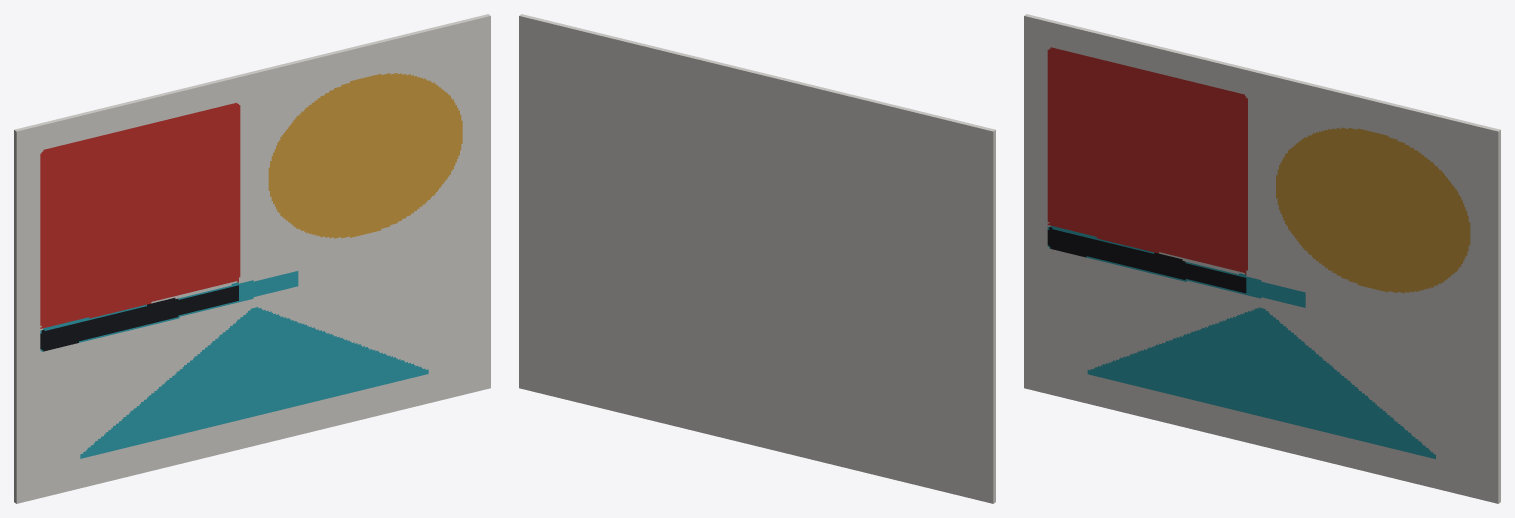
File: sample-plate.obj
3 renders of one model, left to right at view 1: azimuth 30°, elevation 25°; view 2: azimuth 150°, elevation 25°; view 3: azimuth 330°, elevation 25°, orthographic.
Parts seen in each view (by area): view 1: 01__F2F0EB_大简_PETG_HF_白, 02__C8342E_大简_PETG_HF_红, 03__D9A441_大简_PETG_HF_金, 04__2FA8B8_大简_PETG_HF_青, 05__17181C_大简_PETG_HF_黑, 底板; view 2: 底板, 01__F2F0EB_大简_PETG_HF_白; view 3: 01__F2F0EB_大简_PETG_HF_白, 02__C8342E_大简_PETG_HF_红, 03__D9A441_大简_PETG_HF_金, 04__2FA8B8_大简_PETG_HF_青, 05__17181C_大简_PETG_HF_黑, 底板.
Boxes of the visible parts, x1,y1,x2,y2 form: 01__F2F0EB_大简_PETG_HF_白: (15, 15, 490, 503); 02__C8342E_大简_PETG_HF_红: (40, 102, 240, 328); 03__D9A441_大简_PETG_HF_金: (268, 73, 462, 238); 04__2FA8B8_大简_PETG_HF_青: (40, 271, 428, 458); 05__17181C_大简_PETG_HF_黑: (40, 285, 238, 351); 底板: (14, 14, 489, 502); 底板: (519, 15, 994, 503); 01__F2F0EB_大简_PETG_HF_白: (521, 14, 995, 502); 01__F2F0EB_大简_PETG_HF_白: (1024, 15, 1499, 503); 02__C8342E_大简_PETG_HF_红: (1047, 47, 1247, 274); 03__D9A441_大简_PETG_HF_金: (1276, 127, 1470, 293); 04__2FA8B8_大简_PETG_HF_青: (1047, 225, 1435, 458); 05__17181C_大简_PETG_HF_黑: (1047, 227, 1246, 293); 底板: (1025, 14, 1500, 502).
Size of the model in its own units: 150 by 112 by 1.4.
